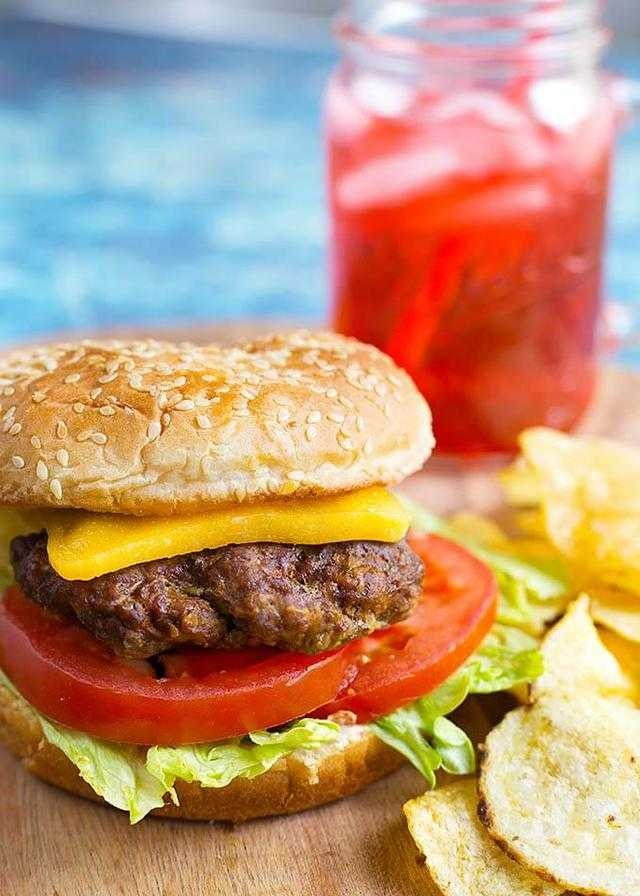hamburger: (1, 305, 506, 816)
